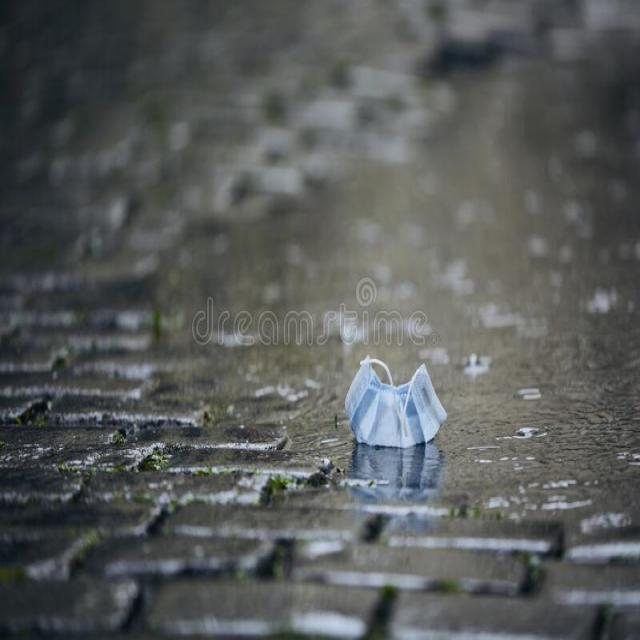non-organic waste: (343, 352, 442, 455)
